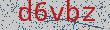6: (34, 1, 49, 25)
b: (65, 1, 81, 27)
d: (15, 1, 32, 23)
v: (49, 3, 64, 25)
z: (82, 1, 97, 27)
